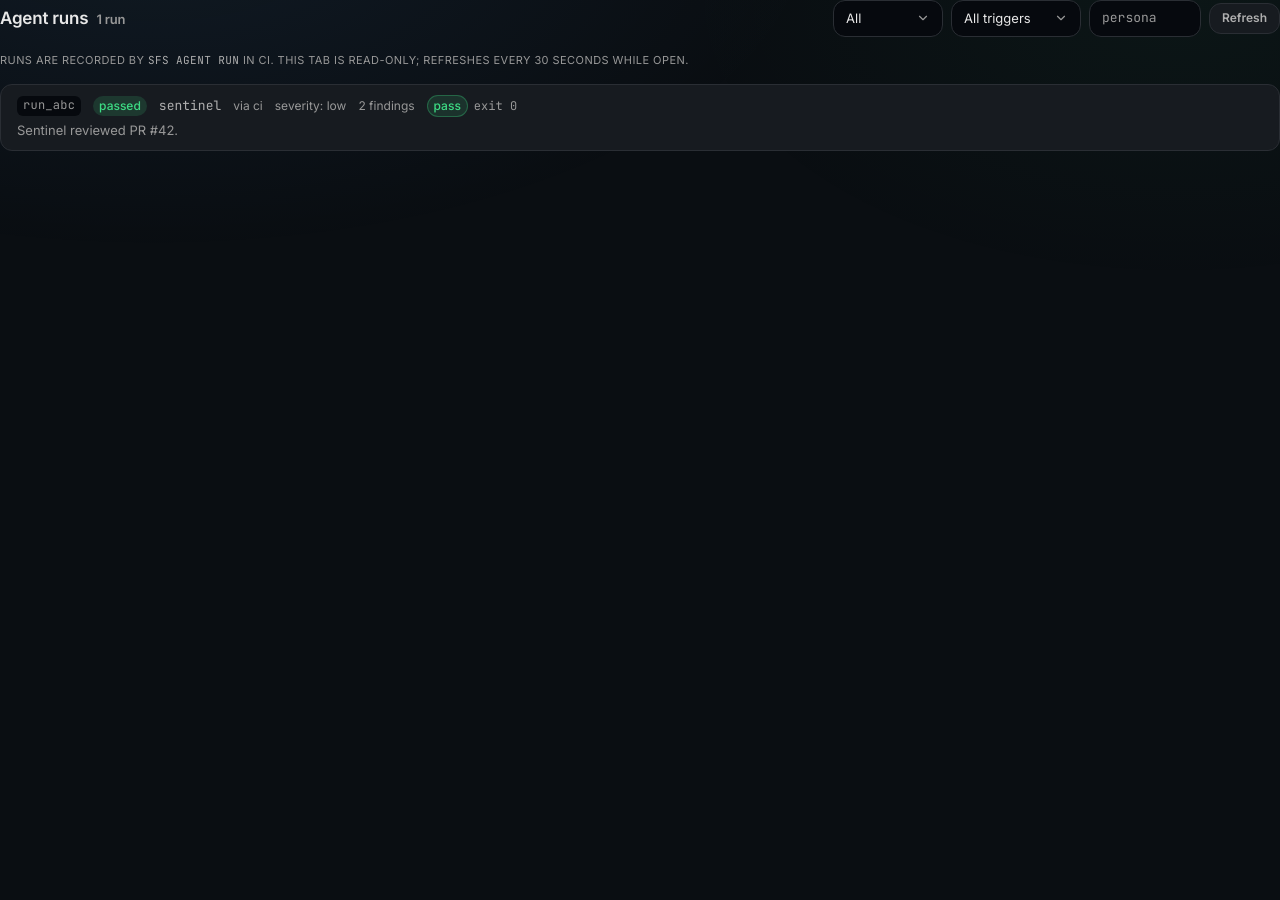
Test: AgentRunsTab › shows the generated command with copy after a successful replay
Click the text "run_abc".
click(49, 106)  # box [17, 96, 81, 116]
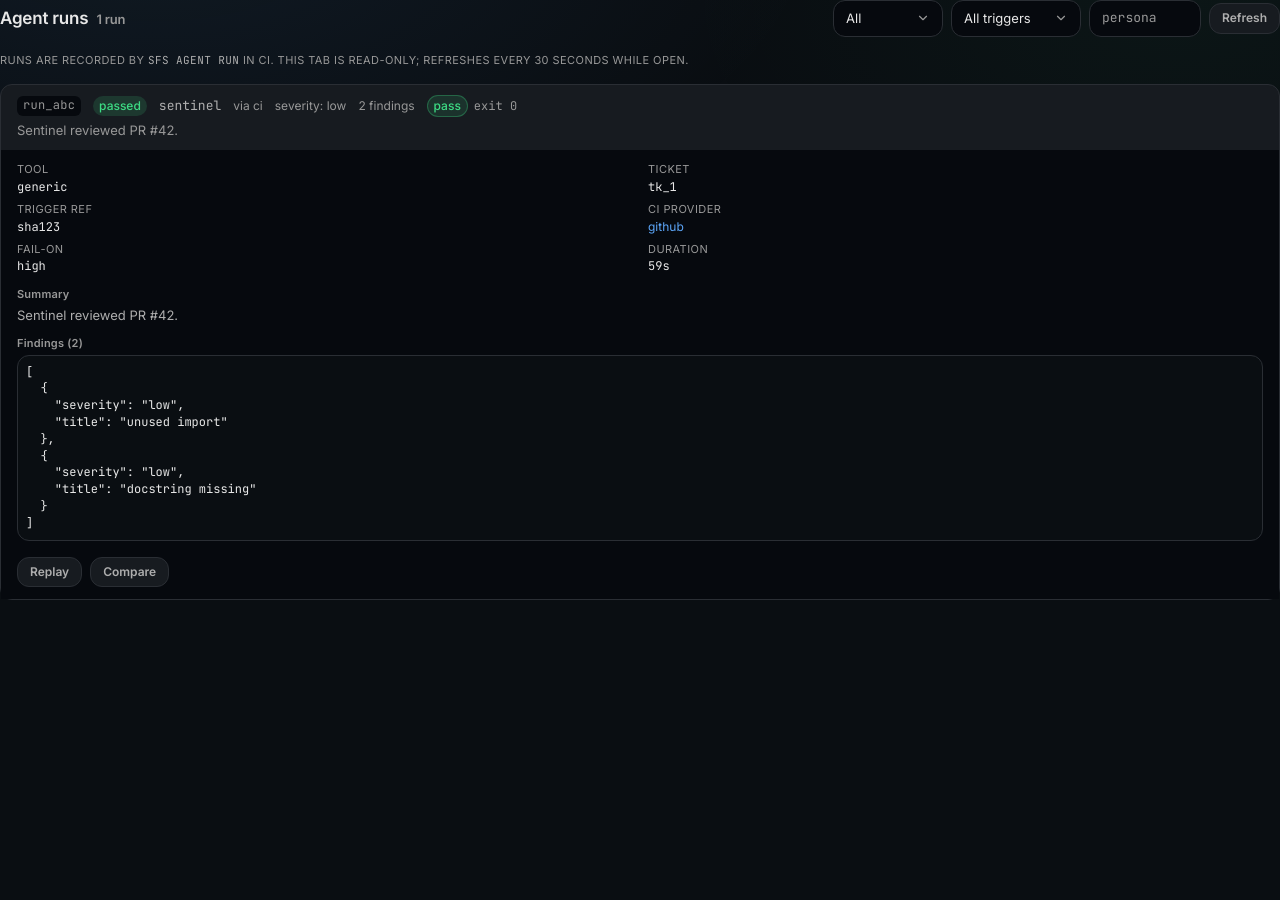
Click the button "Replay".
click(50, 572)  # box [17, 557, 82, 588]
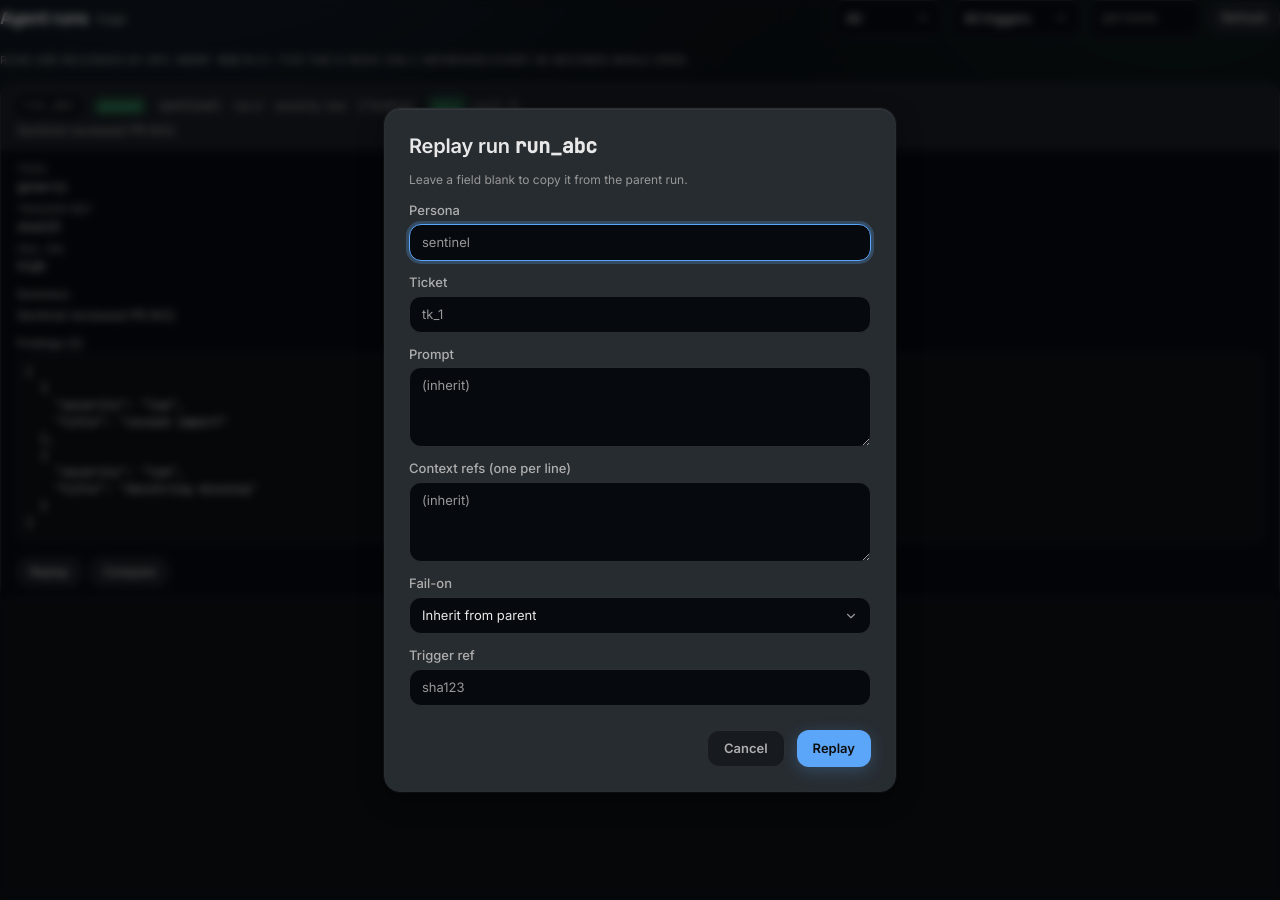
Click the button "Replay".
click(834, 748)  # box [797, 730, 871, 766]
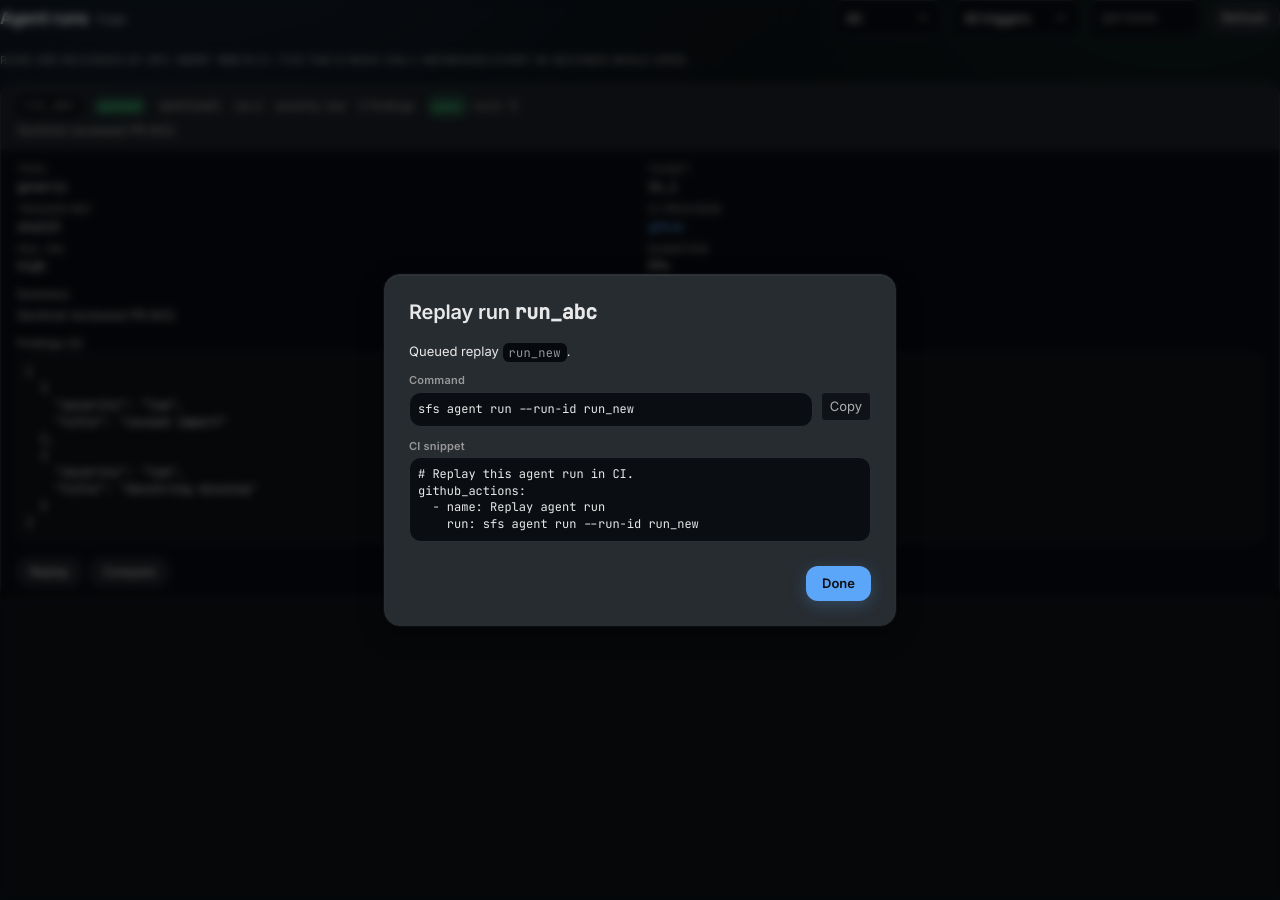
Now the text "sfs agent run --run-id run_new" is shown, box [409, 392, 813, 427]
Now the text "github_actions" is shown, box [418, 466, 699, 532]
